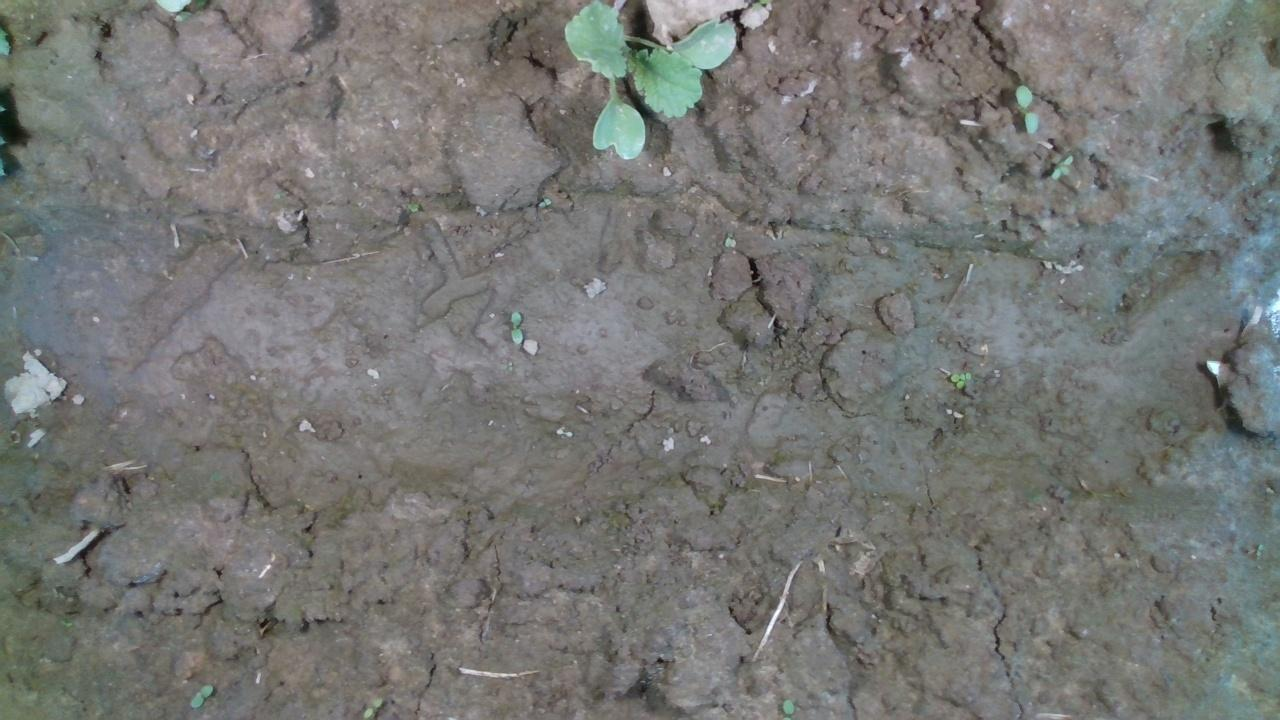weed: (502, 307, 528, 344), (1052, 154, 1079, 184), (946, 365, 974, 391)
